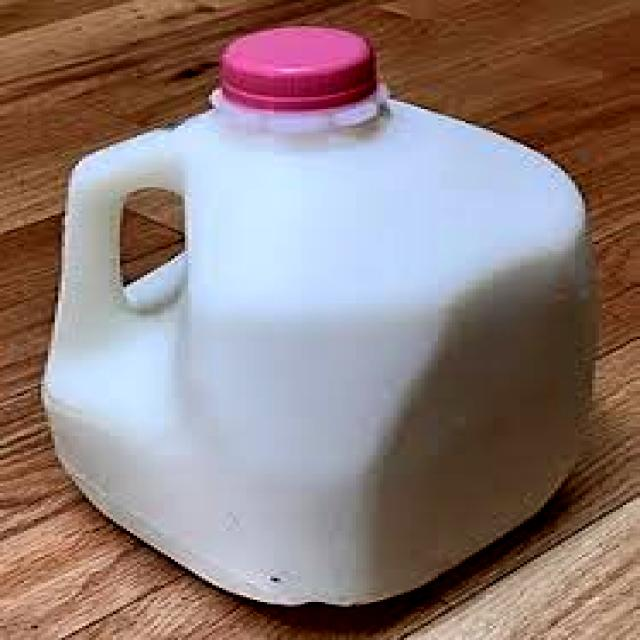Plastic: (33, 23, 593, 607)
